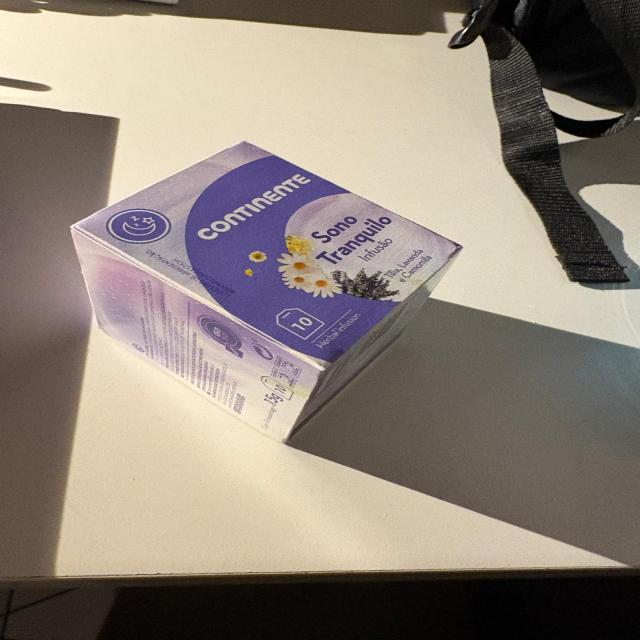good_package: (72, 141, 466, 447)
